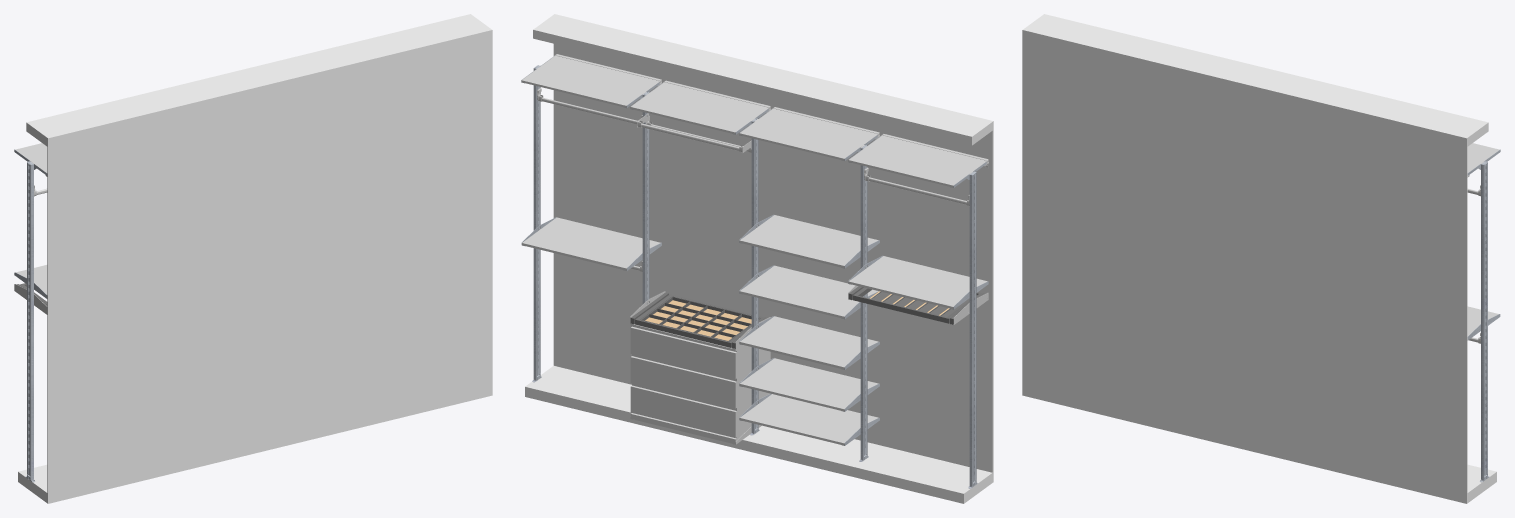
3 renders of one model, left to right at view 1: azimuth 30°, elevation 25°; view 2: azimuth 150°, elevation 25°; view 3: azimuth 330°, elevation 25°, orthographic.
Visible parts, largest first — view 1: Geom3D (×2), Geom3D_Geom3D_组件#16_Defintion#11_Geom3D_组件#16; view 2: Geom3D (×9), Geom3D_Geom3D_组件#4_柜子 copy 002_Defintion#3_Geom3D_组件#4_柜子 co, Geom3D_Geom3D_组件#15_Defintion37_Geom3D_组件#15 (×2), Geom3D_Geom3D_组件#16_Defintion#11_Geom3D_组件#16, Geom3D_Geom3D_组件#16_Defintion#12_Geom3D_组件#16, Geom3D_Geom3D_组件#16_Defintion33_Geom3D_组件#16, Geom3D_Geom3D_组件#16_Defintion20_Geom3D_组件#16, Geom3D_Geom3D_组件#15_Defintion#11_Geom3D_组件#15, Geom3D_Geom3D_组件#15_Defintion#12_Geom3D_组件#15, Geom3D_Geom3D_组件#15_Defintion#10_Geom3D_组件#15, Geom3D_Geom3D_组件#15_Defintion27_Geom3D_组件#15, Geom3D_Geom3D_组件#15_Defintion35_Geom3D_组件#15 (+2 smaller); view 3: Geom3D (×2), Geom3D_Geom3D_组件#16_Defintion33_Geom3D_组件#16.
Boxes of the visible parts, x1=… form: Geom3D (×2): x1=18, y1=14, x2=492, y2=503; Geom3D_Geom3D_组件#16_Defintion#11_Geom3D_组件#16: x1=15, y1=143, x2=47, y2=176; Geom3D (×9): x1=525, y1=14, x2=993, y2=503; Geom3D_Geom3D_组件#4_柜子 copy 002_Defintion#3_Geom3D_组件#4_柜子 co: x1=630, y1=324, x2=770, y2=444; Geom3D_Geom3D_组件#15_Defintion37_Geom3D_组件#15 (×2): x1=522, y1=215, x2=878, y2=270; Geom3D_Geom3D_组件#16_Defintion#11_Geom3D_组件#16: x1=848, y1=134, x2=988, y2=187; Geom3D_Geom3D_组件#16_Defintion#12_Geom3D_组件#16: x1=739, y1=107, x2=879, y2=160; Geom3D_Geom3D_组件#16_Defintion33_Geom3D_组件#16: x1=521, y1=54, x2=661, y2=107; Geom3D_Geom3D_组件#16_Defintion20_Geom3D_组件#16: x1=630, y1=80, x2=770, y2=134; Geom3D_Geom3D_组件#15_Defintion#11_Geom3D_组件#15: x1=739, y1=358, x2=878, y2=411; Geom3D_Geom3D_组件#15_Defintion#12_Geom3D_组件#15: x1=739, y1=316, x2=878, y2=369; Geom3D_Geom3D_组件#15_Defintion#10_Geom3D_组件#15: x1=848, y1=256, x2=987, y2=309; Geom3D_Geom3D_组件#15_Defintion27_Geom3D_组件#15: x1=739, y1=394, x2=878, y2=445; Geom3D_Geom3D_组件#15_Defintion35_Geom3D_组件#15: x1=739, y1=265, x2=878, y2=318; Geom3D (×2): x1=1022, y1=14, x2=1496, y2=503; Geom3D_Geom3D_组件#16_Defintion33_Geom3D_组件#16: x1=1467, y1=143, x2=1499, y2=177.
Size of the model in its own units: 3.63 by 2.85 by 0.5216.
4 materials, 1 textured.
